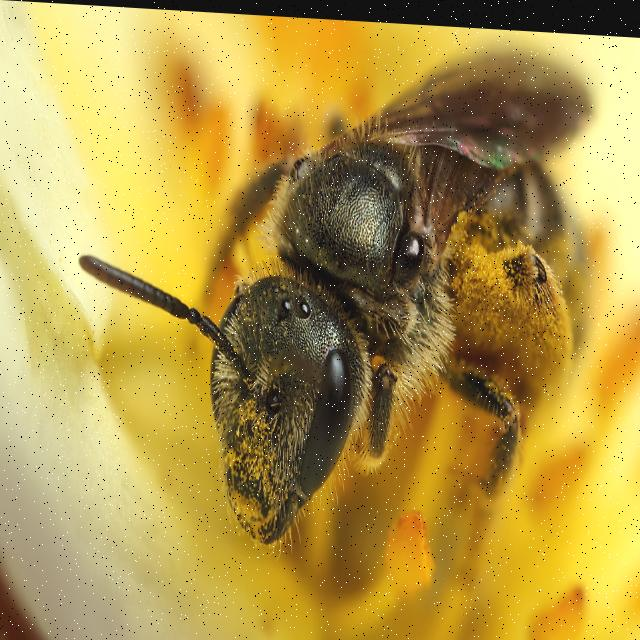Lasioglossum: (129, 6, 606, 596)
